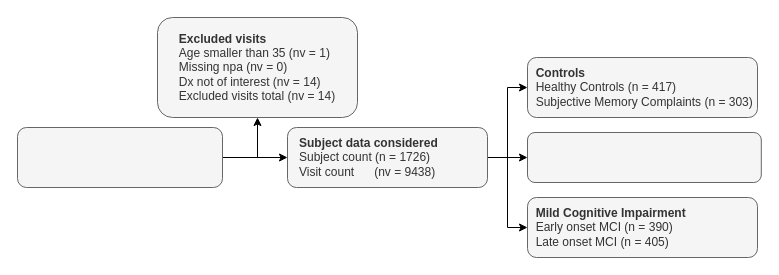
Some shapes in this 779 by 275 pixel diagram are drawn without their labels. Each missing label, with the centre of its shape:
Alzheimer's Disease Alzheimer's Disease (n = 211): point (643, 157)
Initial subject data Subject count (n = 1740) Visit count (nv = 9438): point (119, 157)
